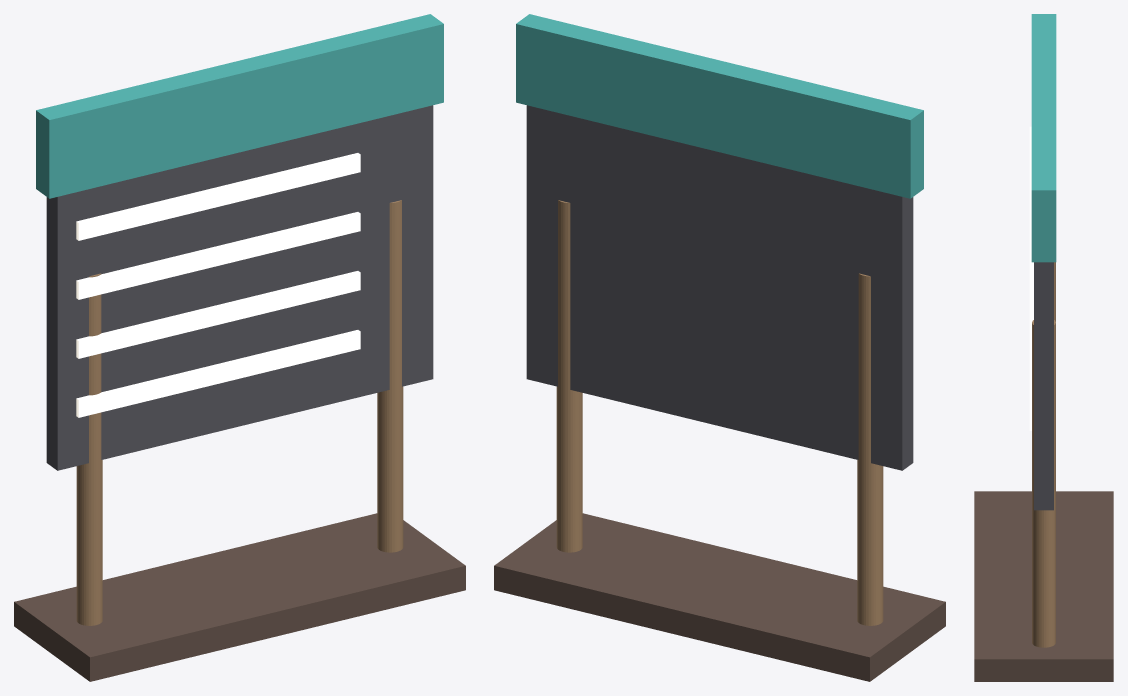
The model's file is cafe_menu_board.glb.
3 renders of one model, left to right at view 1: azimuth 30°, elevation 25°; view 2: azimuth 150°, elevation 25°; view 3: azimuth 270°, elevation 25°, orthographic. The views are drawn at different scales.
Visible parts, largest first — view 1: BoardPanel, BoardHeader, BoardBase, Post_1.6, Post_-1.6, MenuRow_0, MenuRow_1, MenuRow_2, MenuRow_3; view 2: BoardPanel, BoardHeader, BoardBase, Post_1.6, Post_-1.6; view 3: BoardBase, BoardHeader, BoardPanel, Post_1.6, MenuRow_0, MenuRow_1.
Boxes of the visible parts, bbox=[...] form: BoardPanel: bbox=[46, 105, 433, 470]; BoardHeader: bbox=[36, 14, 443, 198]; BoardBase: bbox=[14, 513, 465, 681]; Post_1.6: bbox=[377, 200, 403, 552]; Post_-1.6: bbox=[76, 273, 102, 625]; MenuRow_0: bbox=[76, 153, 360, 240]; MenuRow_1: bbox=[76, 212, 360, 299]; MenuRow_2: bbox=[76, 271, 360, 358]; MenuRow_3: bbox=[76, 330, 360, 417]; BoardPanel: bbox=[526, 105, 913, 470]; BoardHeader: bbox=[516, 14, 923, 198]; BoardBase: bbox=[494, 513, 945, 681]; Post_1.6: bbox=[556, 200, 582, 552]; Post_-1.6: bbox=[857, 273, 883, 625]; BoardBase: bbox=[974, 491, 1113, 681]; BoardHeader: bbox=[1031, 14, 1056, 262]; BoardPanel: bbox=[1034, 262, 1053, 510]; Post_1.6: bbox=[1032, 320, 1055, 647]; MenuRow_0: bbox=[1029, 126, 1033, 268]; MenuRow_1: bbox=[1029, 268, 1033, 322].
Bounding box in the file's own units: 4.2 × 5.51 × 1.4.
